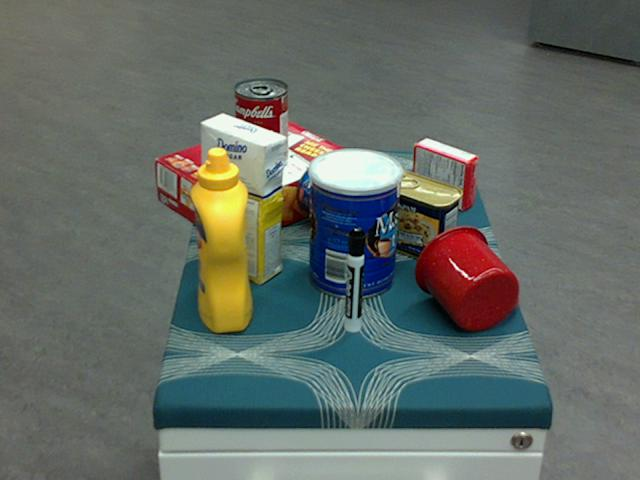cracker_box: (154, 117, 357, 250)
gelatin_box: (412, 138, 479, 210)
large_marker: (345, 227, 364, 333)
master_chef_can: (308, 148, 402, 298)
mug: (414, 225, 520, 330)
mustard_bottle: (190, 148, 251, 333)
potted_meat_can: (376, 170, 462, 261)
sugar_box: (200, 114, 284, 285)
tomato_soup_can: (233, 78, 288, 172)
tuna_fish_can: (295, 155, 364, 225)
